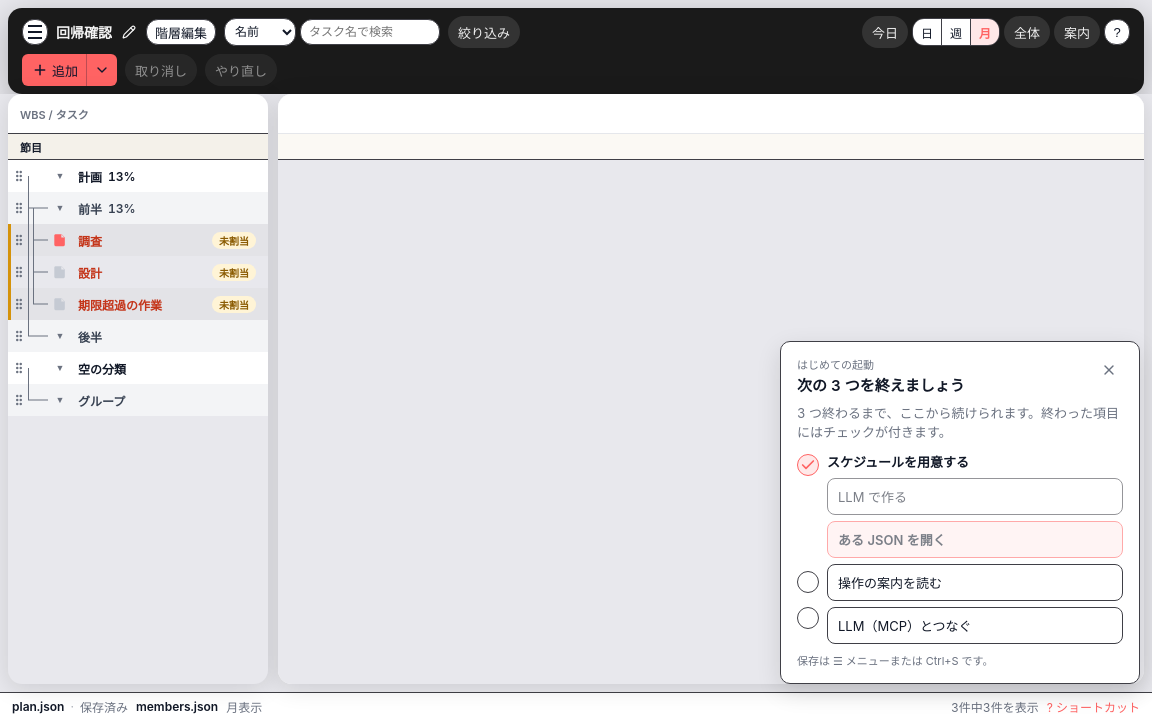
Test case: App integration (Issue 548) › TC-SET-08m: hides 項目を編集 when workspace statuses are absent
Check: the button with aria-label "階層の名前、意味、指示" is shown, box x1=146 y1=19 x2=216 y2=45
Check: the text "調査" is shown, box x1=78 y1=234 x2=102 y2=248
Click the button named "閉じる": (1109, 370) x1=1095 y1=356 x2=1123 y2=384
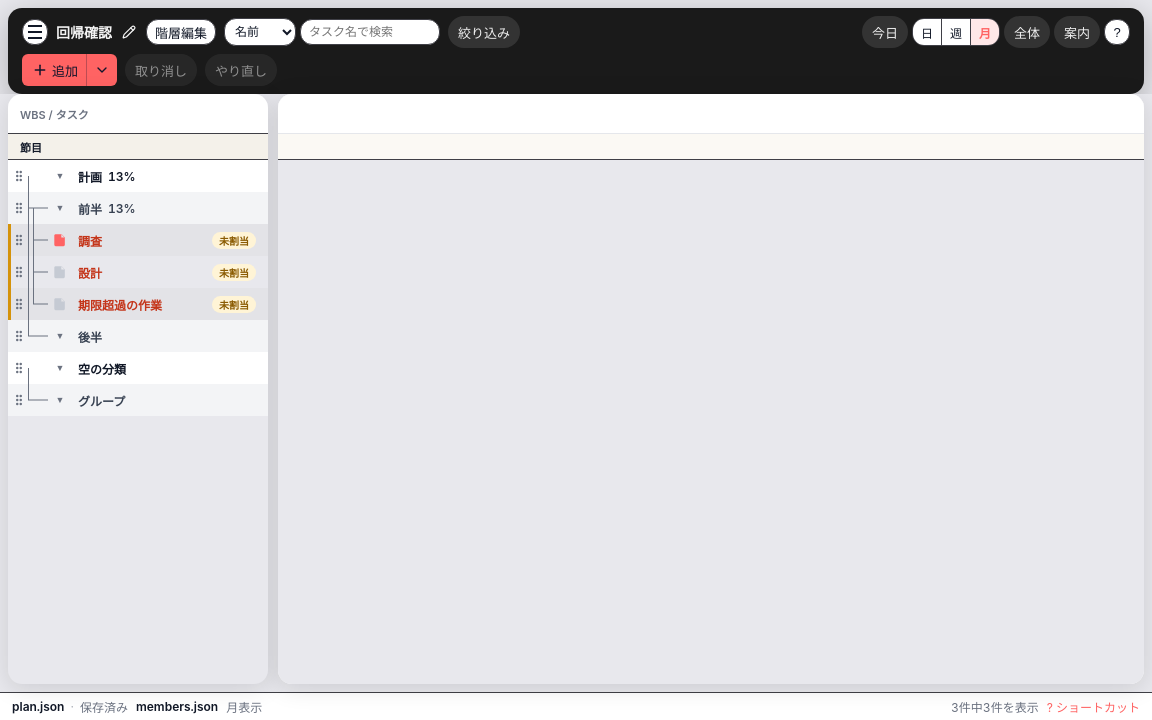
Click the button titled "メニュー": (35, 32) x1=22 y1=19 x2=48 y2=45
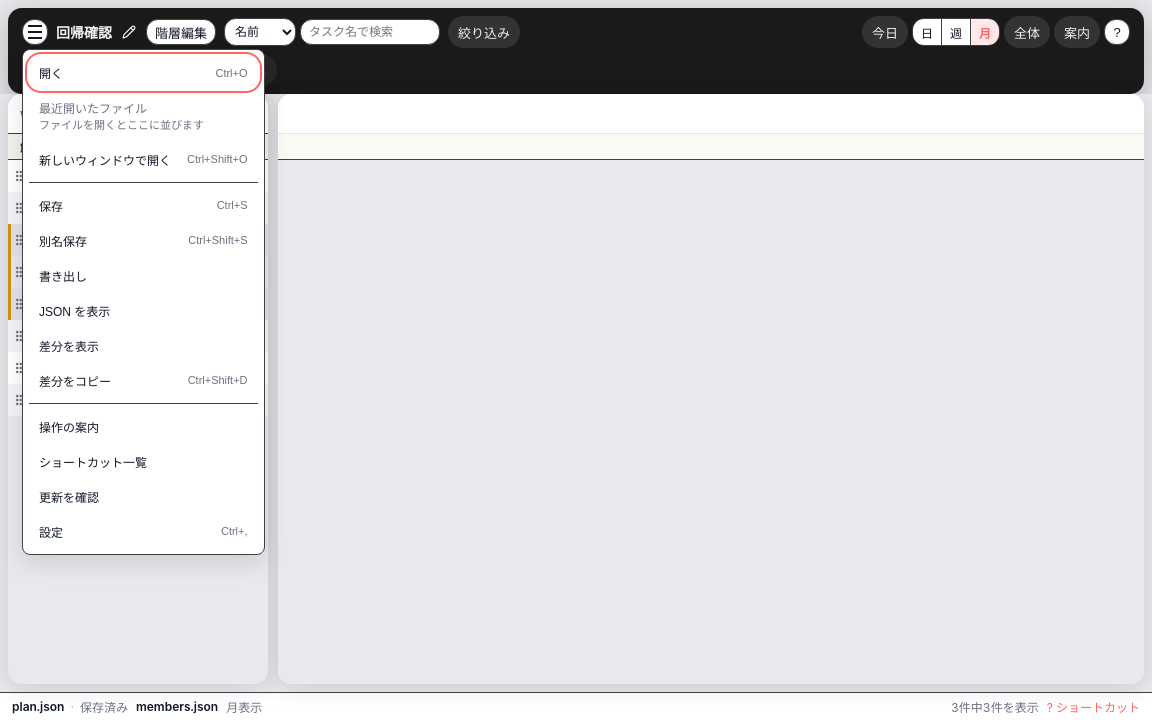
Click the menu item "設定 Ctrl+,": (143, 531) x1=29 y1=515 x2=258 y2=548
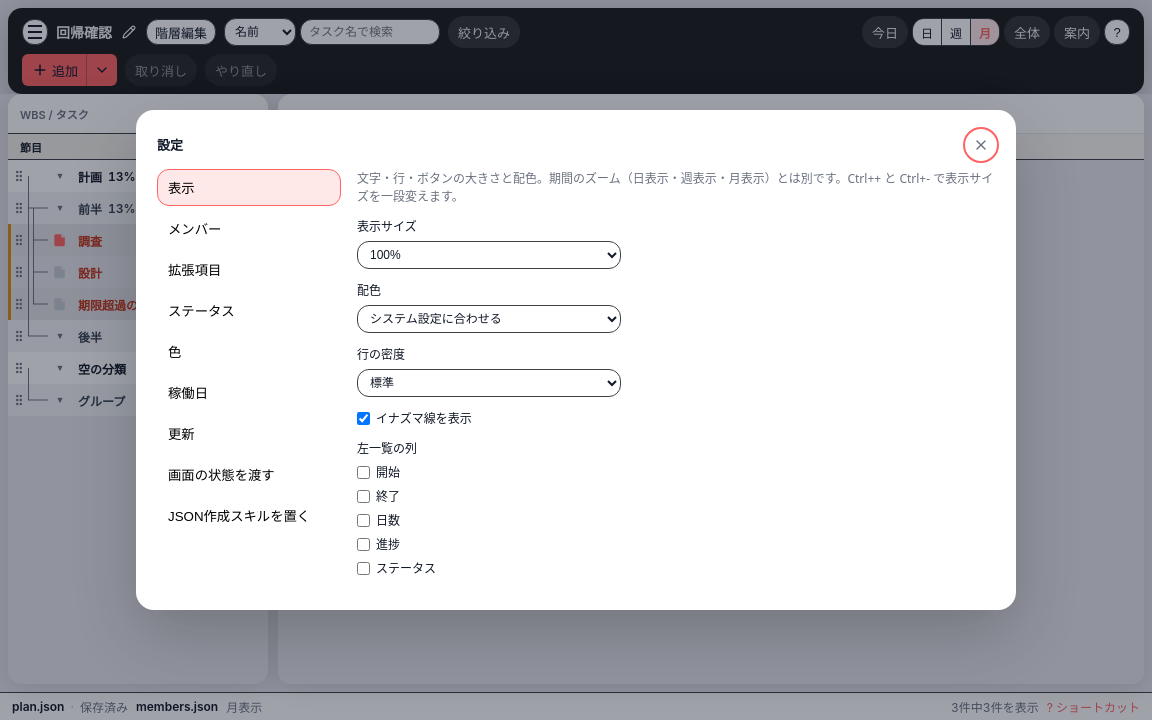
Click the button "ステータス": (249, 310) x1=157 y1=292 x2=341 y2=329
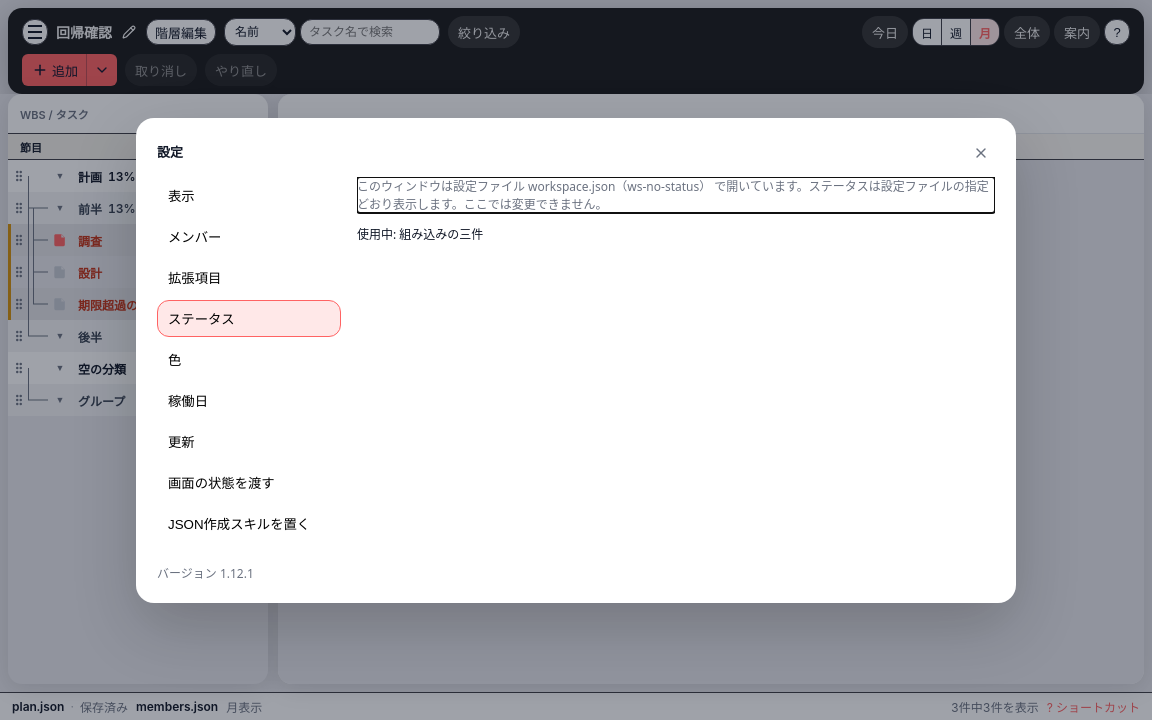
Check: the text "使用中: 組み込みの三件" is shown, box x1=357 y1=226 x2=483 y2=242
